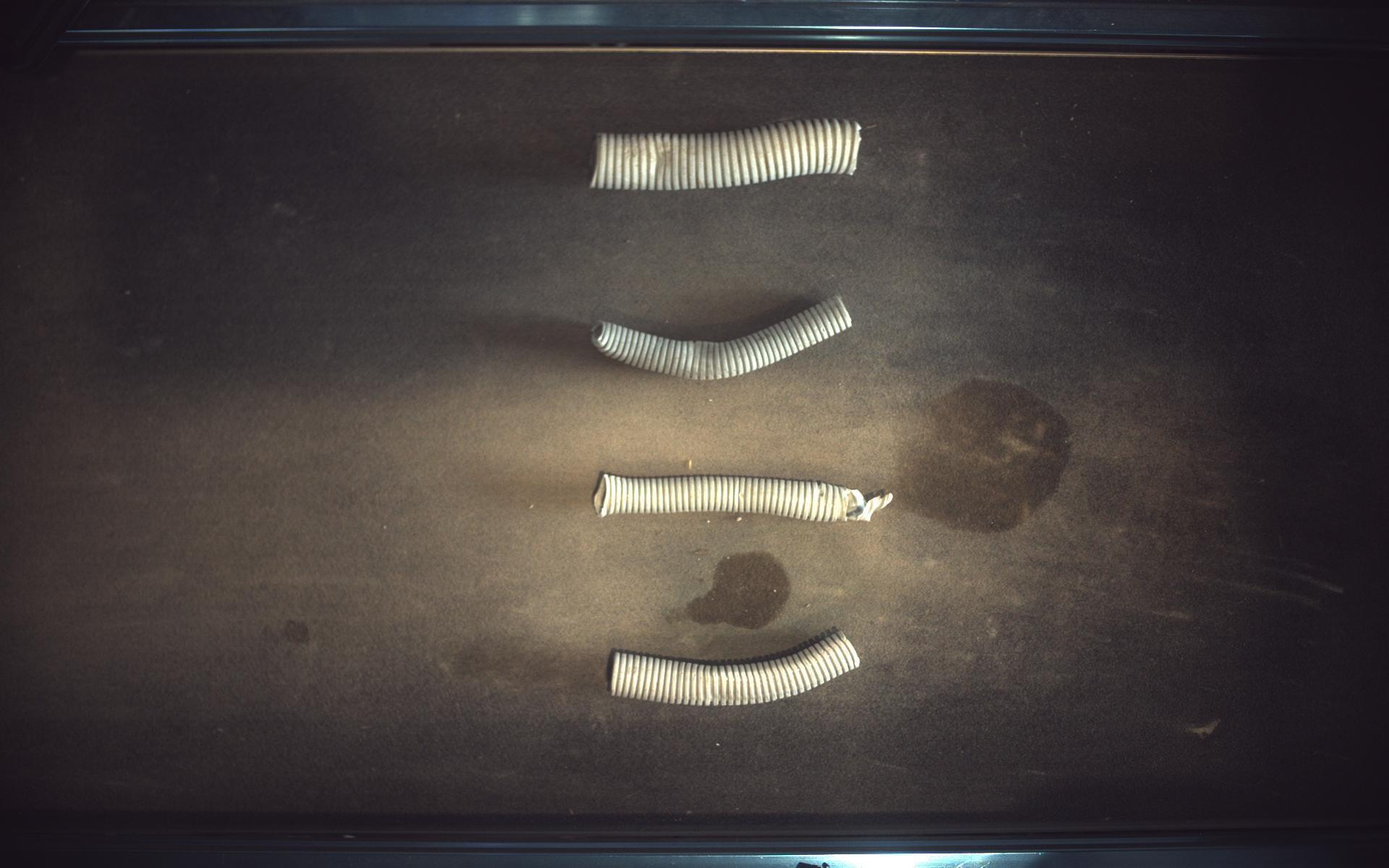pipes: (594, 294, 854, 380), (608, 629, 862, 707), (592, 117, 862, 190), (594, 473, 895, 522)
